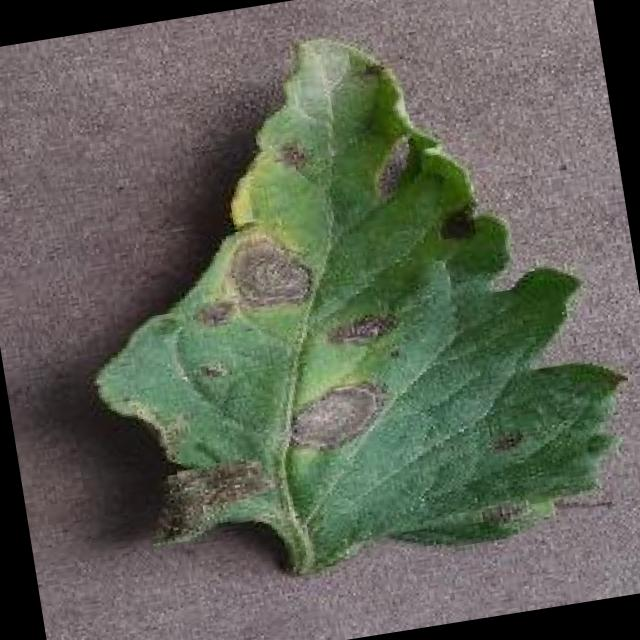Tomato_Early_Blight: (59, 0, 620, 596)
